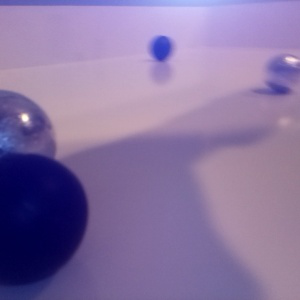alive_ball: (1, 90, 56, 199), (265, 53, 300, 91)
dead_ball: (1, 152, 88, 283), (150, 36, 173, 61)
